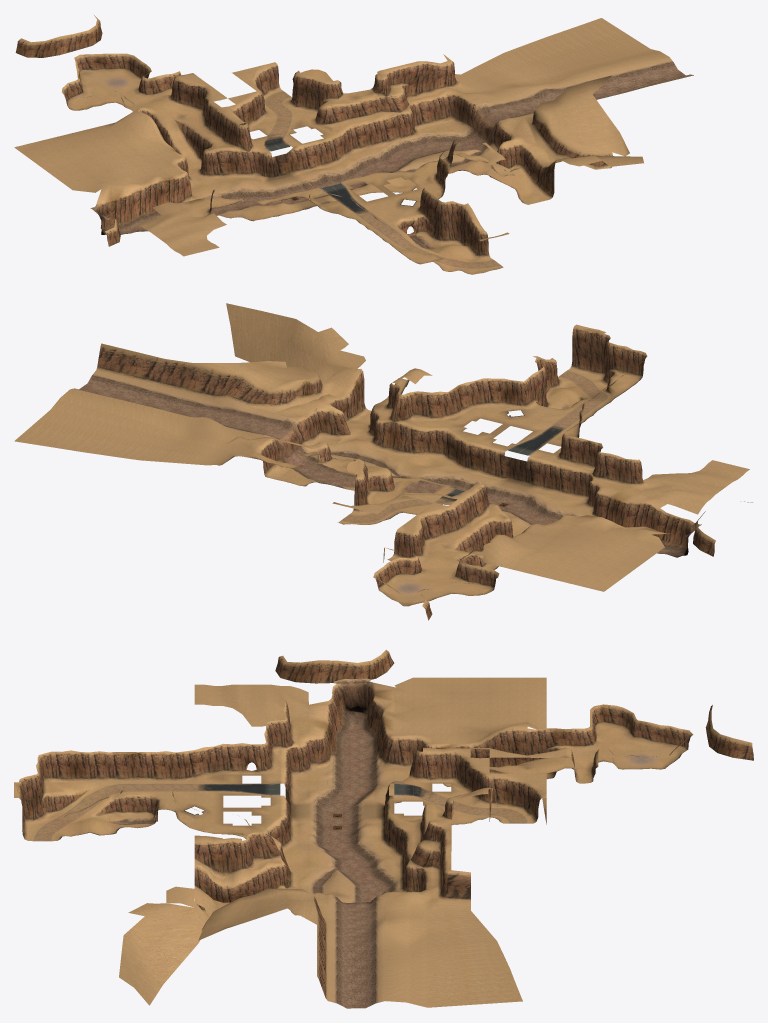
File: Mis1_Zone2.glb
The picture shows the model from 3 angles, top to bottom: view 1: azimuth 30°, elevation 25°; view 2: azimuth 150°, elevation 25°; view 3: azimuth 270°, elevation 25°; orthographic projection. The views are drawn at different scales.
Visible parts, largest first — view 1: MIS1_ZONE2037, MIS1_ZONE2578, MIS1_ZONE2577, MIS1_ZONE2572, MIS1_ZONE2557, MIS1_ZONE2556, MIS1_ZONE2476, MIS1_ZONE2524, MIS1_ZONE2441, MIS1_ZONE2488, MIS1_ZONE2393, MIS1_ZONE2349 (+20 smaller); view 2: MIS1_ZONE2050, MIS1_ZONE2002, MIS1_ZONE2578, MIS1_ZONE2577, MIS1_ZONE2557, MIS1_ZONE2217, MIS1_ZONE2296, MIS1_ZONE2556, MIS1_ZONE2001, MIS1_ZONE2301, MIS1_ZONE2082, MIS1_ZONE2197 (+10 smaller); view 3: MIS1_ZONE2072, MIS1_ZONE2071, MIS1_ZONE2551, MIS1_ZONE2578, MIS1_ZONE2058, MIS1_ZONE2577, MIS1_ZONE2557, MIS1_ZONE2556, MIS1_ZONE2127, MIS1_ZONE2105, MIS1_ZONE2062, MIS1_ZONE2200 (+17 smaller).
Boxes of the visible parts, left/top/right/bottom form: MIS1_ZONE2037: left=435, top=201, right=459, bottom=246; MIS1_ZONE2578: left=576, top=18, right=649, bottom=48; MIS1_ZONE2577: left=548, top=27, right=619, bottom=55; MIS1_ZONE2572: left=290, top=70, right=316, bottom=110; MIS1_ZONE2557: left=576, top=27, right=649, bottom=55; MIS1_ZONE2556: left=549, top=36, right=619, bottom=63; MIS1_ZONE2476: left=199, top=147, right=224, bottom=182; MIS1_ZONE2524: left=412, top=61, right=433, bottom=98; MIS1_ZONE2441: left=237, top=135, right=261, bottom=178; MIS1_ZONE2488: left=374, top=77, right=399, bottom=114; MIS1_ZONE2393: left=125, top=182, right=154, bottom=217; MIS1_ZONE2349: left=111, top=195, right=133, bottom=232; MIS1_ZONE2050: left=230, top=311, right=265, bottom=355; MIS1_ZONE2002: left=575, top=326, right=598, bottom=376; MIS1_ZONE2578: left=14, top=410, right=50, bottom=446; MIS1_ZONE2577: left=47, top=418, right=81, bottom=451; MIS1_ZONE2557: left=47, top=410, right=80, bottom=445; MIS1_ZONE2217: left=319, top=404, right=343, bottom=440; MIS1_ZONE2296: left=209, top=375, right=241, bottom=409; MIS1_ZONE2556: left=81, top=417, right=113, bottom=451; MIS1_ZONE2001: left=587, top=330, right=610, bottom=378; MIS1_ZONE2301: left=127, top=361, right=163, bottom=392; MIS1_ZONE2082: left=467, top=378, right=493, bottom=409; MIS1_ZONE2197: left=619, top=459, right=645, bottom=491; MIS1_ZONE2072: left=143, top=943, right=198, bottom=984; MIS1_ZONE2071: left=144, top=908, right=198, bottom=948; MIS1_ZONE2551: left=429, top=874, right=470, bottom=911; MIS1_ZONE2578: left=429, top=985, right=522, bottom=1007; MIS1_ZONE2058: left=143, top=908, right=193, bottom=948; MIS1_ZONE2577: left=428, top=969, right=516, bottom=991; MIS1_ZONE2557: left=427, top=985, right=514, bottom=1007; MIS1_ZONE2556: left=427, top=968, right=509, bottom=990; MIS1_ZONE2127: left=223, top=843, right=242, bottom=884; MIS1_ZONE2105: left=201, top=844, right=223, bottom=885; MIS1_ZONE2062: left=166, top=754, right=185, bottom=787; MIS1_ZONE2200: left=280, top=720, right=299, bottom=781.
Size of the model in its own units: 343 by 33.55 by 311.
33 materials, 33 textured.
